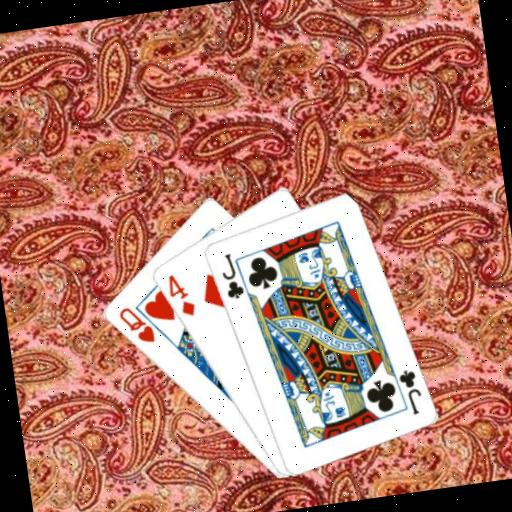4D: (163, 269, 198, 321)
JC: (394, 365, 426, 418), (216, 249, 247, 302)
QH: (115, 300, 158, 349)
